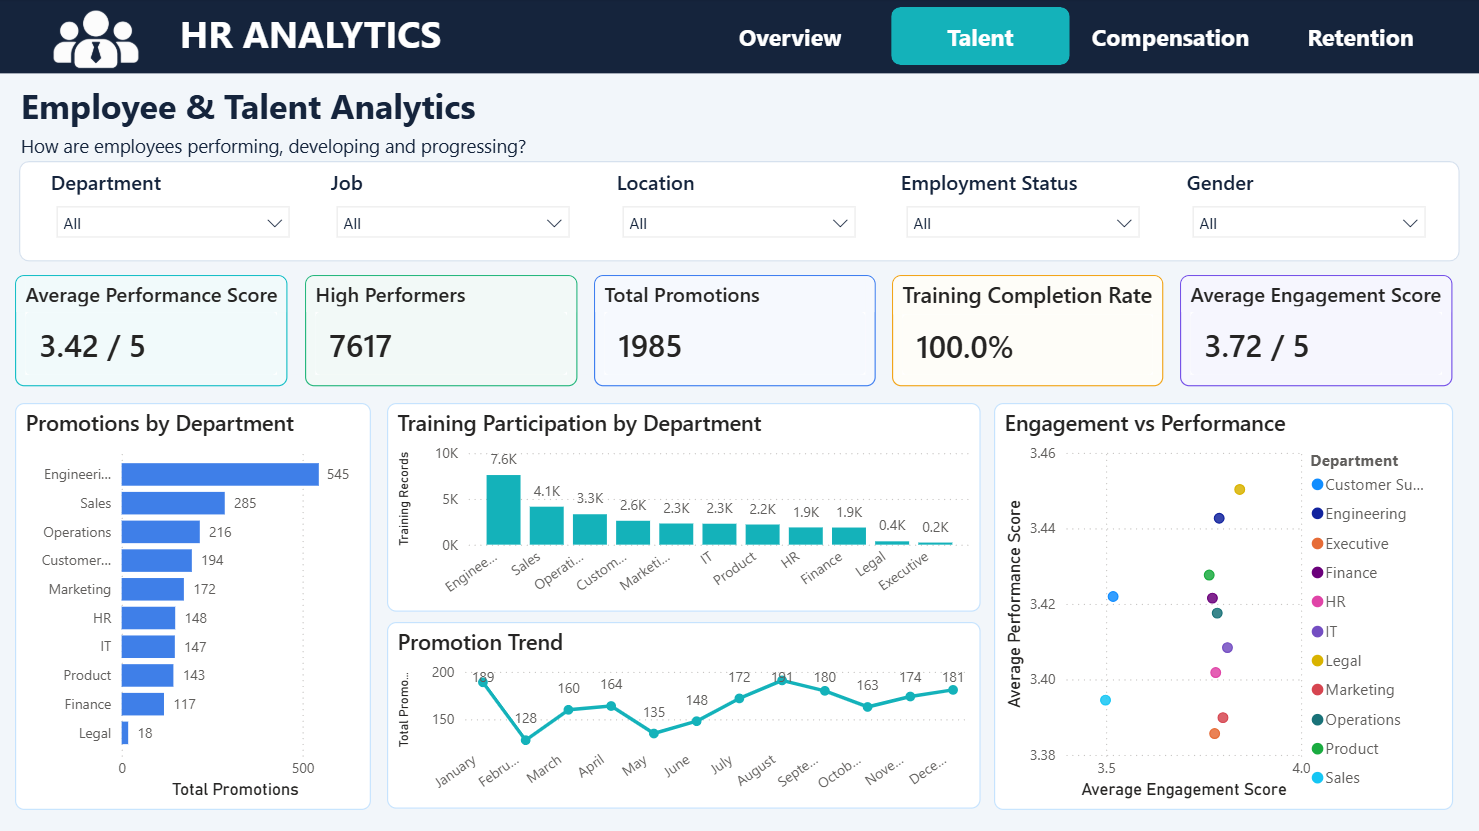

This screenshot's page, from the dashboard's own definition file:
{"tool":"powerbi","page":{"name":"Talent","canvas":[1280,720],"ordinal":1},"visuals":[{"type":"shape","box":[0,0,1280,65],"z":0},{"type":"image","box":[41.7,3.3,87.7,59.2],"z":1000},{"type":"textbox","title":"HR ANALYTICS","box":[152.5,7.7,263.2,49.4],"z":2000},{"type":"pageNavigator","box":[607.6,7.7,648.2,50.5],"z":3000},{"type":"textbox","title":"Employee & Talent Analytics","box":[15.8,72.9,514,67.9],"z":4000},{"type":"cardVisual","title":"Average Performance Score","fields":{"Data":["MeasuresTable.Average Performance Display"]},"box":[15.8,239.3,235.3,95.5],"z":5000},{"type":"cardVisual","title":"High Performers","fields":{"Data":["MeasuresTable.High Performers"]},"box":[265.8,239.3,235.3,95.5],"z":6000},{"type":"cardVisual","title":"Total Promotions","fields":{"Data":["MeasuresTable.Total Promotions"]},"box":[515,239.3,243.2,95.5],"z":7000},{"type":"cardVisual","title":"Training Completion Rate","fields":{"Data":["MeasuresTable.Training Completion Rate"]},"box":[771.9,239.3,234.3,95.5],"z":8000},{"type":"clusteredBarChart","title":"Promotions by Department","fields":{"Category":["hr_analytics dim_departments.DepartmentName"],"Y":["MeasuresTable.Total Promotions"]},"box":[15.8,349.5,307.2,350.5],"z":9000},{"type":"lineChart","title":"Promotion Trend","fields":{"Y":["MeasuresTable.Total Promotions"],"Category":["hr_analytics fact_promotions.PromotionDate.Variation.Date Hierarchy.Month"]},"box":[336.7,538.6,512,161.5],"z":10000},{"type":"clusteredColumnChart","title":"Training Participation by Department","fields":{"Category":["hr_analytics dim_departments.DepartmentName"],"Y":["MeasuresTable.Training Records"]},"box":[336.7,349.5,512,180.2],"z":11000},{"type":"scatterChart","title":"Engagement vs Performance ","fields":{"X":["MeasuresTable.Average Engagement Score"],"Y":["MeasuresTable.Average Performance Score"],"Series":["hr_analytics dim_departments.DepartmentName"]},"box":[859.6,349.5,395.8,350.5],"z":12000},{"type":"shape","box":[18.7,140.8,1242.6,86.6],"z":13000},{"type":"slicer","title":"Department","fields":{"Values":["hr_analytics dim_departments.DepartmentName"]},"box":[41.4,146.7,221,74.8],"z":14000},{"type":"slicer","title":"Job","fields":{"Values":["hr_analytics dim_jobs.JobTitle"]},"box":[282.6,146.7,220.6,74.8],"z":15000},{"type":"slicer","title":"Location","fields":{"Values":["hr_analytics dim_locations.LocationName"]},"box":[529.7,146.7,220.6,74.8],"z":16000},{"type":"slicer","title":"Employment Status","fields":{"Values":["hr_analytics dim_employees.EmploymentStatus"]},"box":[774.9,146.7,220.6,74.8],"z":17000},{"type":"slicer","title":"Gender","fields":{"Values":["hr_analytics dim_employee_demographics.GenderIdentity"]},"box":[1021,146.7,220.6,74.8],"z":18000},{"type":"cardVisual","title":"Average Engagement Score","fields":{"Data":["MeasuresTable.Average eng Display"]},"box":[1020.1,239.3,235.3,95.5],"z":19000}]}

Visuals, with their boxes in screenshot pixels (x1, y1, x2, y2), scaled from the page's 1280x720 canvas onto the 1479x831 screenshot:
shape: bbox=[0, 0, 1478, 75]
image: bbox=[48, 4, 150, 72]
"HR ANALYTICS" textbox: bbox=[176, 9, 480, 66]
pageNavigator: bbox=[702, 9, 1451, 67]
"Employee & Talent Analytics" textbox: bbox=[18, 84, 612, 163]
"Average Performance Score" cardVisual: bbox=[18, 276, 290, 386]
"High Performers" cardVisual: bbox=[307, 276, 579, 386]
"Total Promotions" cardVisual: bbox=[595, 276, 876, 386]
"Training Completion Rate" cardVisual: bbox=[892, 276, 1163, 386]
"Promotions by Department" clusteredBarChart: bbox=[18, 403, 373, 808]
"Promotion Trend" lineChart: bbox=[389, 622, 981, 808]
"Training Participation by Department" clusteredColumnChart: bbox=[389, 403, 981, 611]
"Engagement vs Performance " scatterChart: bbox=[993, 403, 1451, 808]
shape: bbox=[22, 163, 1457, 262]
"Department" slicer: bbox=[48, 169, 303, 256]
"Job" slicer: bbox=[327, 169, 581, 256]
"Location" slicer: bbox=[612, 169, 867, 256]
"Employment Status" slicer: bbox=[895, 169, 1150, 256]
"Gender" slicer: bbox=[1180, 169, 1435, 256]
"Average Engagement Score" cardVisual: bbox=[1179, 276, 1451, 386]
